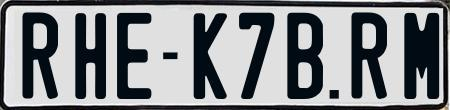7: (238, 10, 279, 98)
B: (286, 12, 323, 100)
E: (115, 10, 153, 101)
H: (75, 11, 106, 101)
K: (193, 10, 228, 99)
M: (402, 11, 430, 98)
R: (22, 10, 61, 102), (349, 12, 385, 102)
